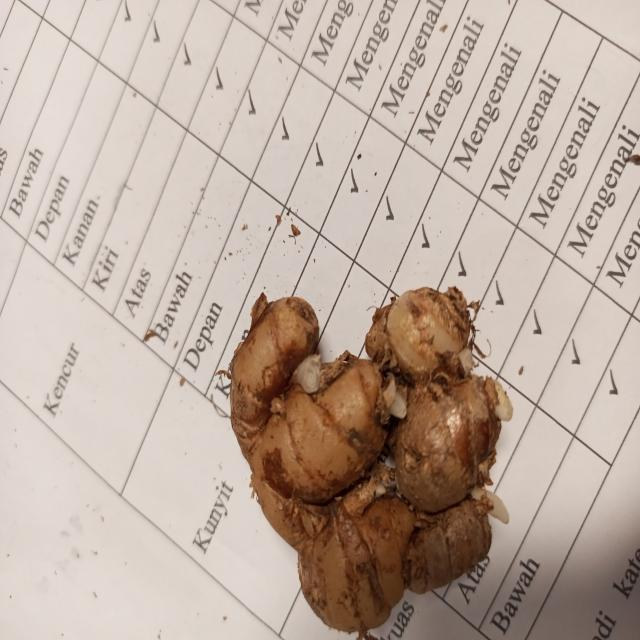ginger: (234, 288, 496, 627)
